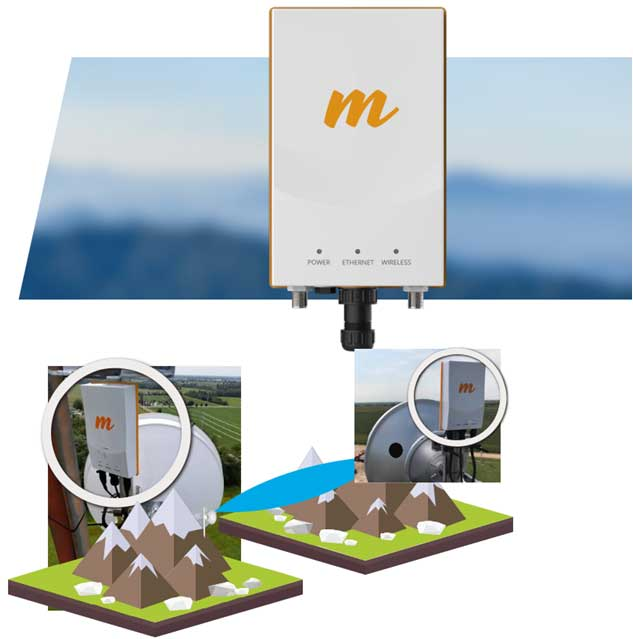ba: (359, 388, 463, 496)
